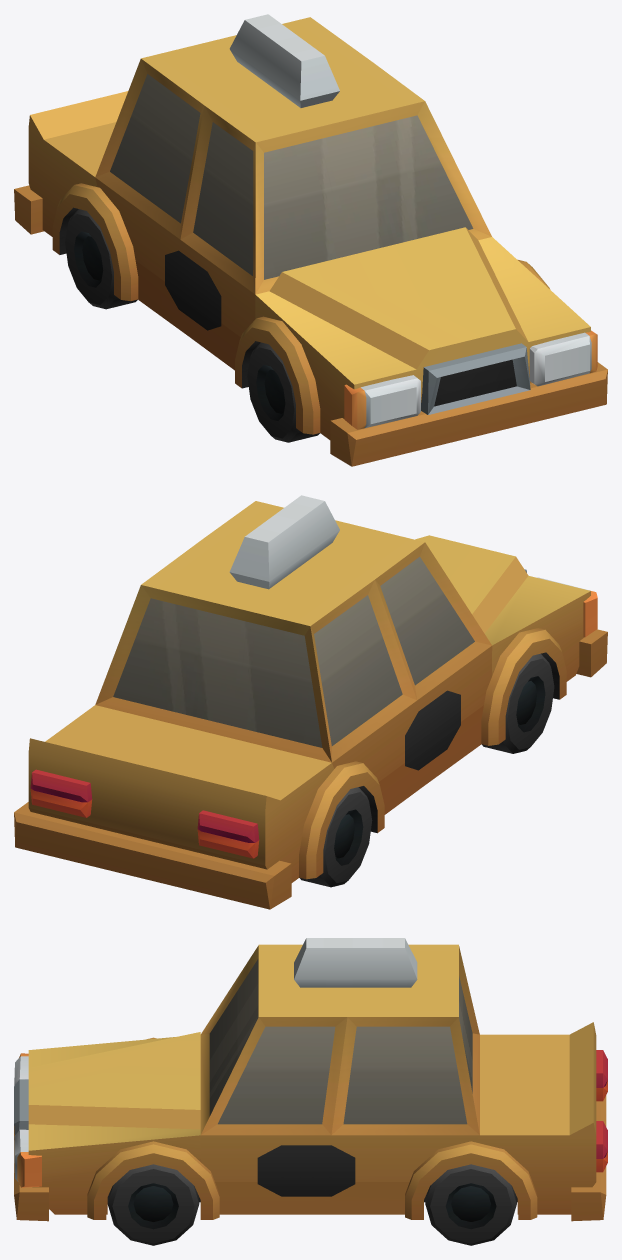
The model's file is kaykit-car-taxi.glb.
The picture shows the model from 3 angles, top to bottom: view 1: azimuth 30°, elevation 25°; view 2: azimuth 150°, elevation 25°; view 3: azimuth 270°, elevation 25°; orthographic projection. The views are drawn at different scales.
Visible parts, largest first — view 1: car_taxi; view 2: car_taxi; view 3: car_taxi.
Part boxes in pixels (x1=…): car_taxi: x1=14, y1=14, x2=607, y2=466; car_taxi: x1=14, y1=495, x2=607, y2=909; car_taxi: x1=14, y1=938, x2=607, y2=1245.
Size of the model in its own units: 0.4189 by 0.4345 by 0.9381.
Materials: 1 (1 with a texture image).
